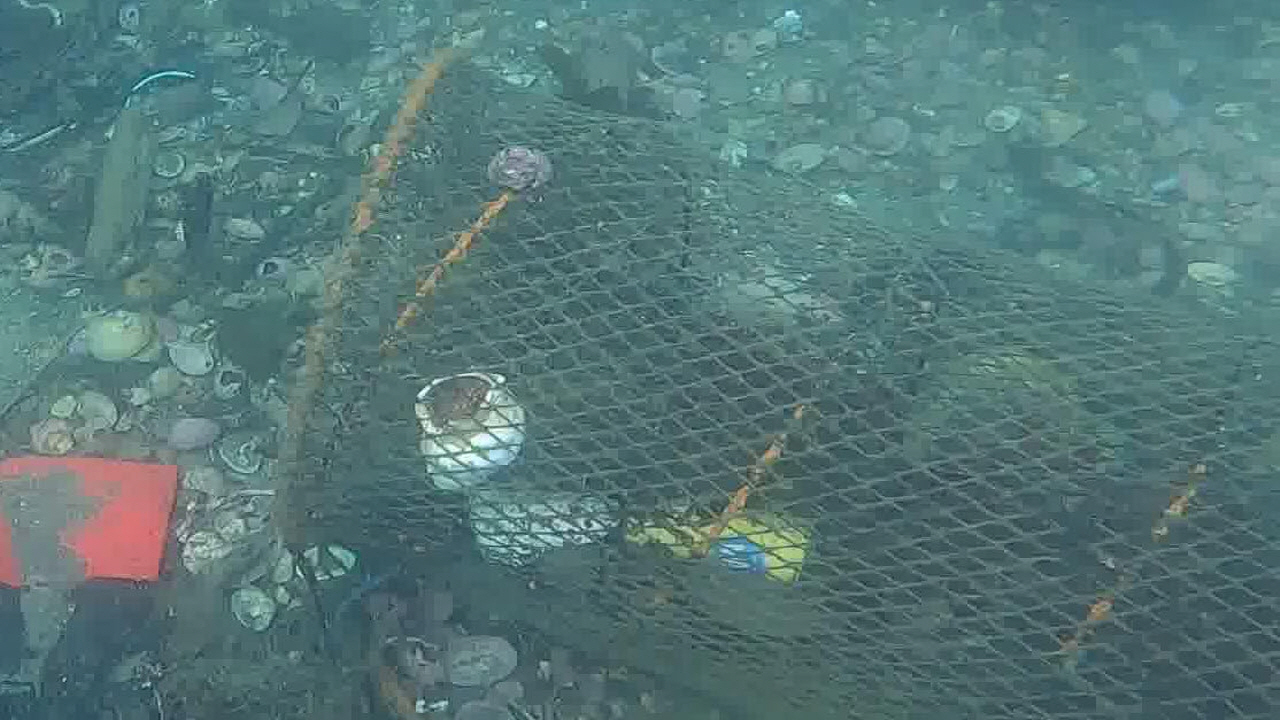spring fish trap: (270, 46, 1280, 720)
